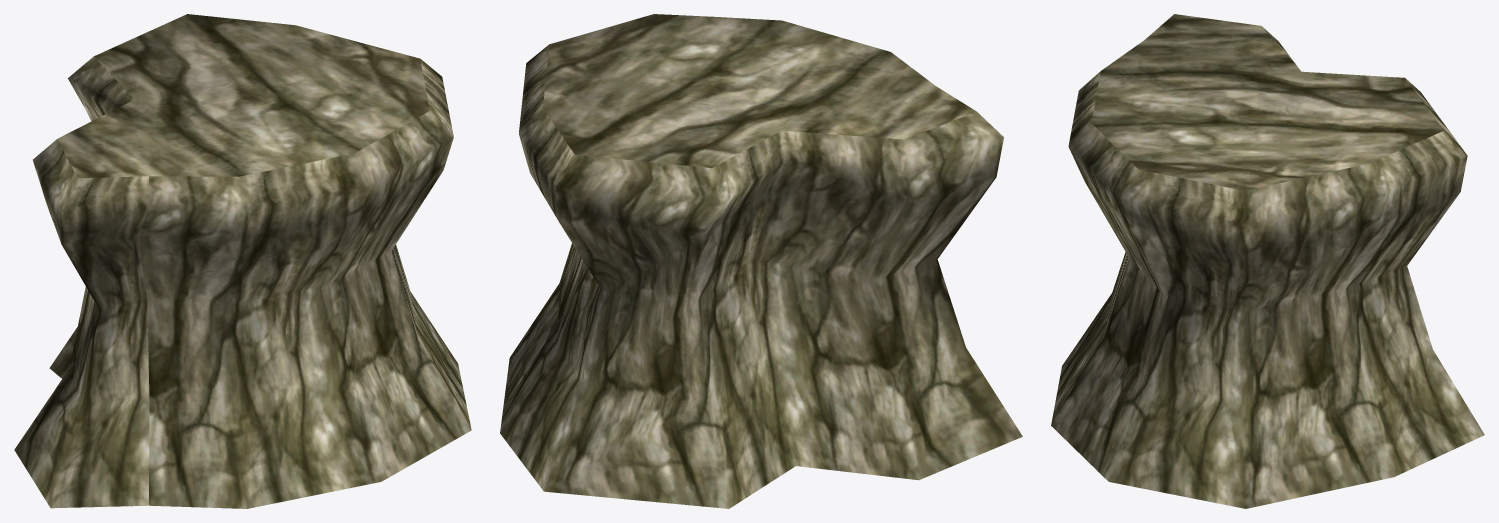
The model's file is CB_NEWPLAYSURFACE_CB_PLAYSURFACE04.fbx.
The picture shows the model from 3 angles, left to right: view 1: azimuth 30°, elevation 25°; view 2: azimuth 150°, elevation 25°; view 3: azimuth 270°, elevation 25°; orthographic projection. The views are drawn at different scales.
Parts seen in each view (by area): view 1: CB_NEWPLAYSURFACE_CB_PLAYSURFACE04; view 2: CB_NEWPLAYSURFACE_CB_PLAYSURFACE04; view 3: CB_NEWPLAYSURFACE_CB_PLAYSURFACE04.
Part boxes in pixels (left/top/right/bottom): CB_NEWPLAYSURFACE_CB_PLAYSURFACE04: left=14, top=14, right=471, bottom=508; CB_NEWPLAYSURFACE_CB_PLAYSURFACE04: left=500, top=14, right=1022, bottom=508; CB_NEWPLAYSURFACE_CB_PLAYSURFACE04: left=1051, top=14, right=1484, bottom=508.
Size of the model in its own units: 84242 by 55787 by 73059.
2 materials, 2 textured.
